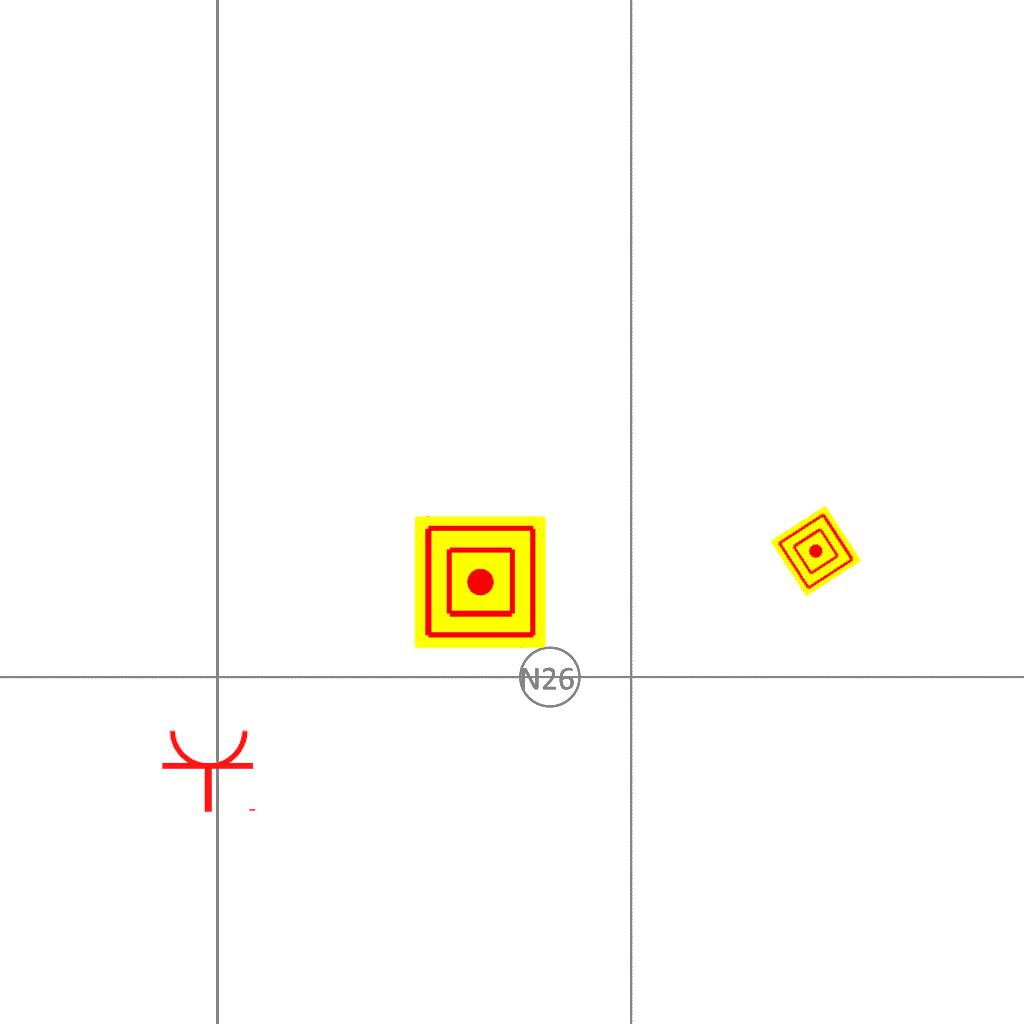NAM-Nichtautomatischer_Melder: (414, 516, 546, 648), (770, 505, 862, 597)
Schukosteckdose_einfach: (160, 727, 260, 814)
